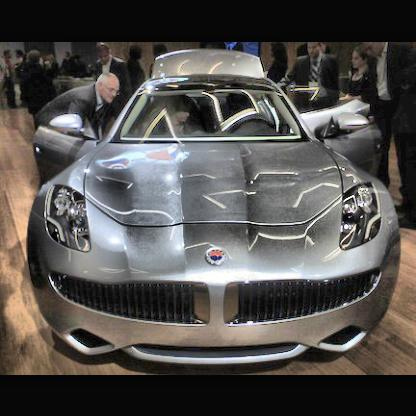Fisker Karma Sedan 2012: (27, 50, 402, 375)
